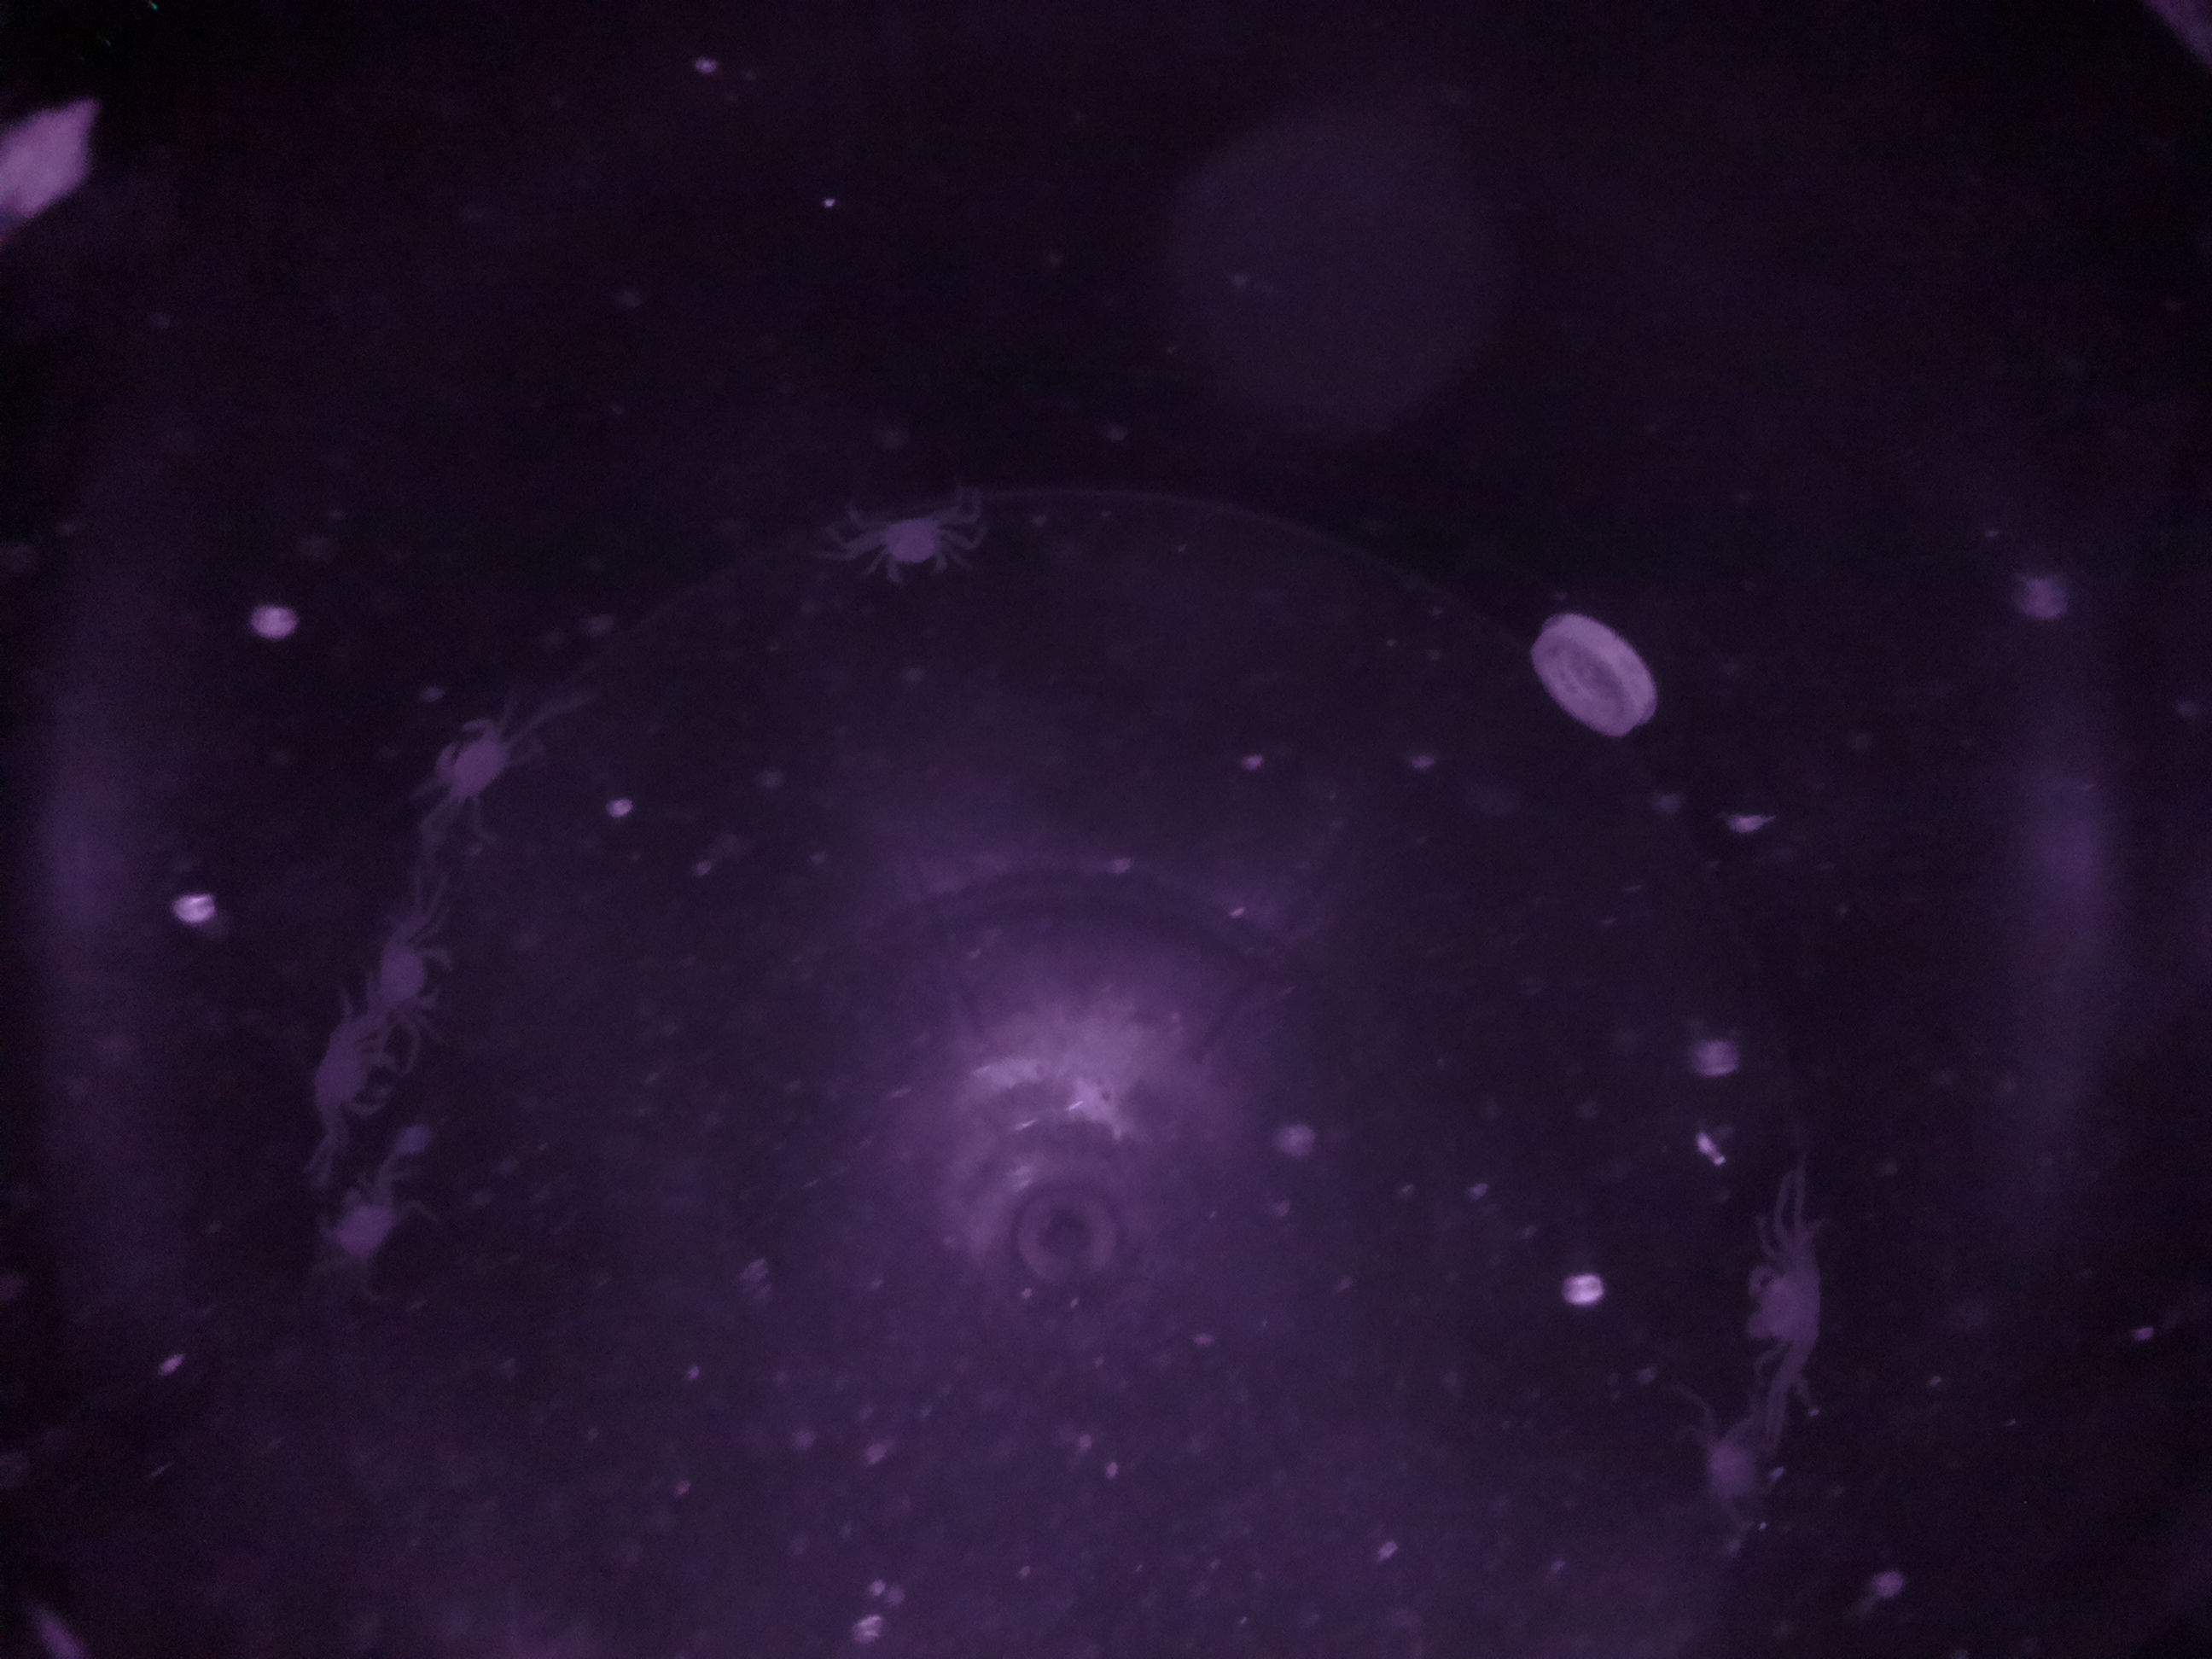Crab: (852, 486, 1008, 610), (1719, 1241, 1858, 1370), (427, 697, 536, 817)
